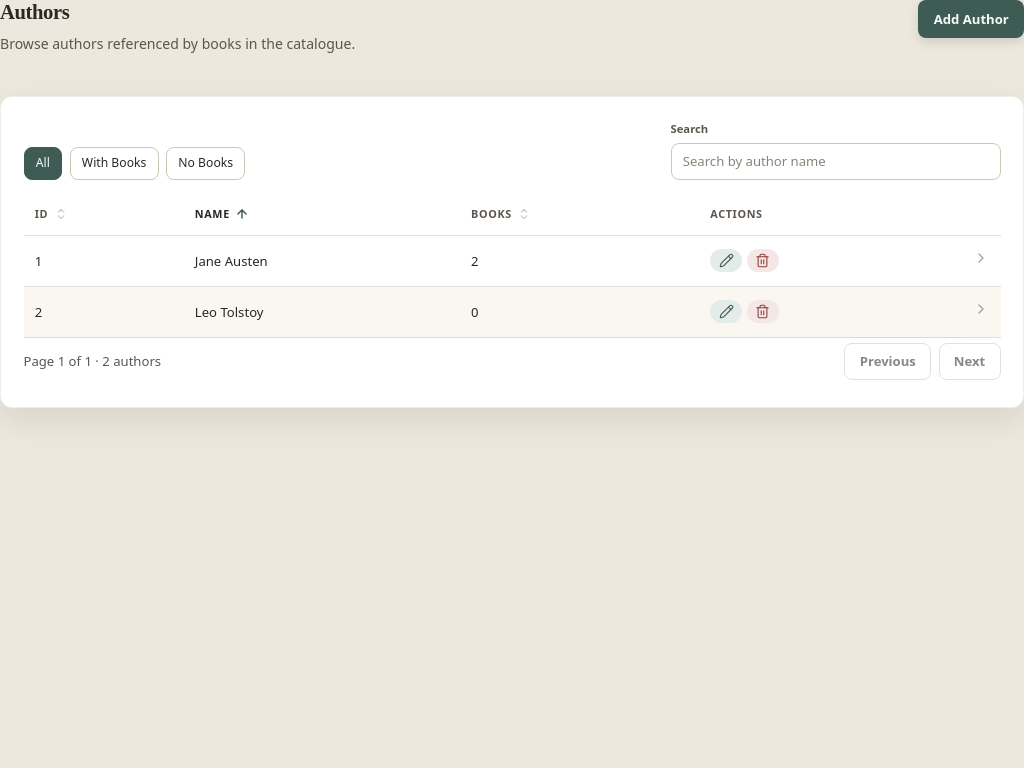
Scenario: AuthorsPage › does not navigate when admin action buttons are clicked
This screenshot has width=1024, height=768.
Click the button named "Edit Jane Austen".
click(726, 260)  # box x1=710 y1=249 x2=742 y2=272
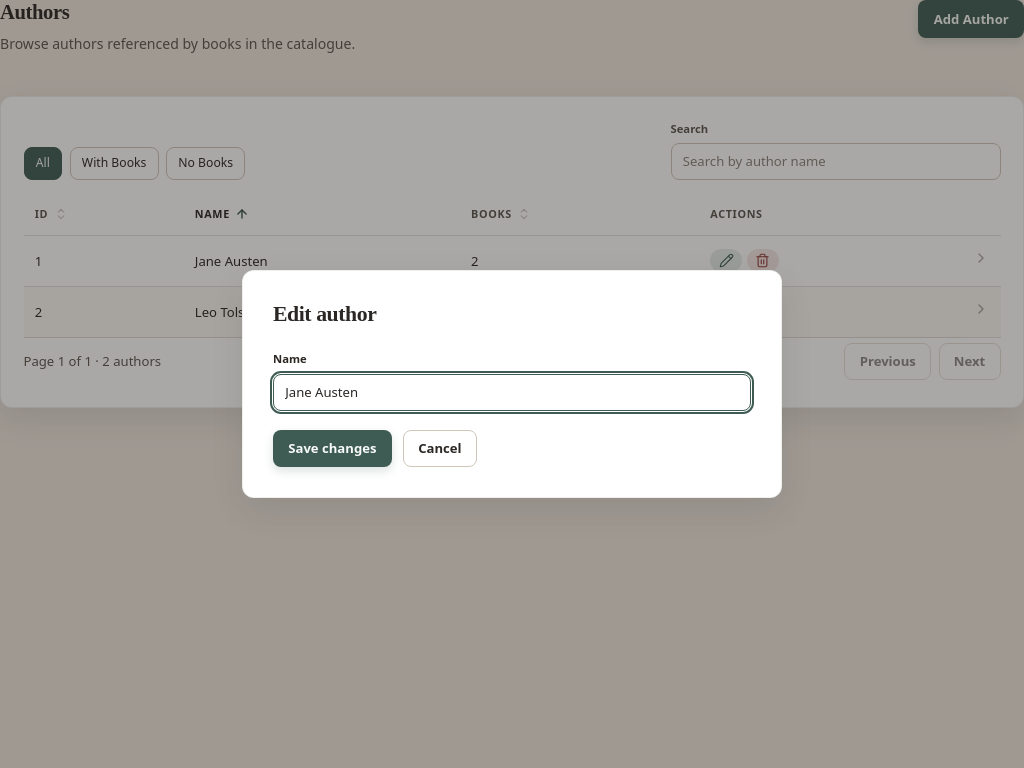
Expected: the dialog is shown, x1=242 y1=270 x2=782 y2=498
